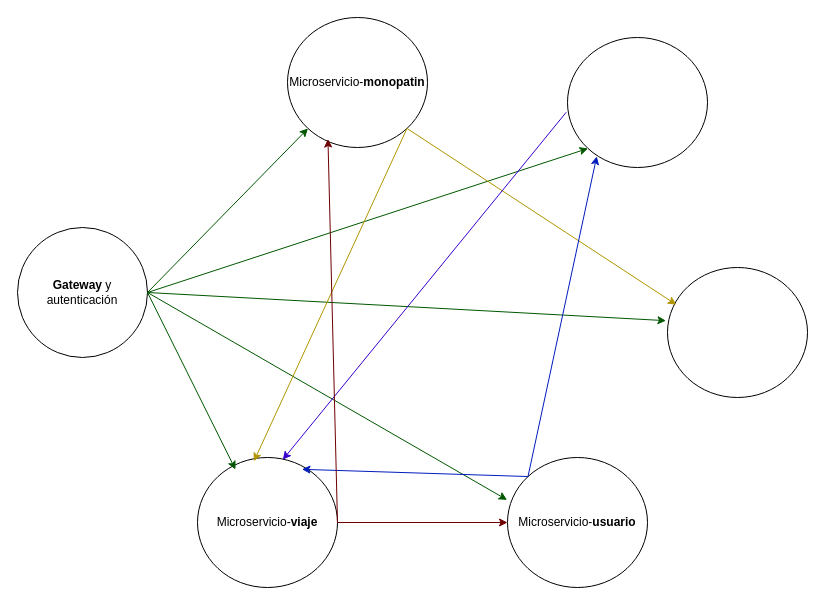
This 825x605 diagram has some shape labels left out. Each missing label, with the centre of its shape:
Microservicio- pago: the point at 637,102
Microservicio- parada: the point at 737,332
